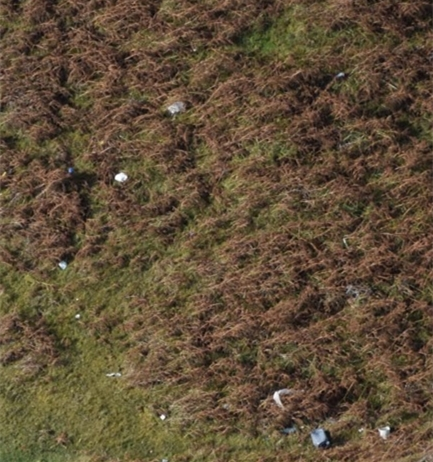scattered_barrel: (49, 90, 200, 277), (253, 368, 403, 462)
